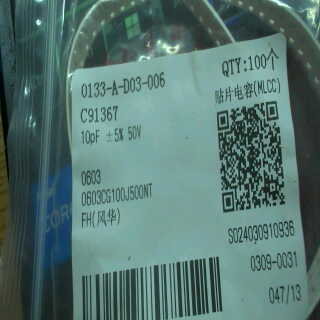10pF: (79, 127, 104, 148)
